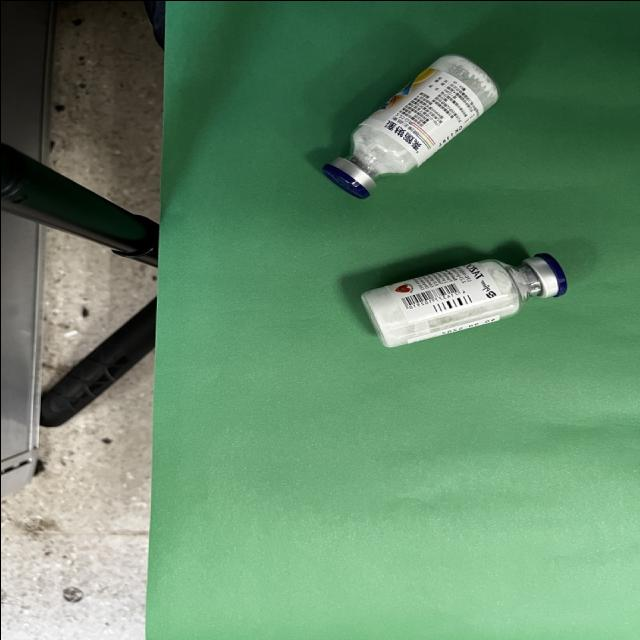Vials: (321, 52, 499, 198), (359, 250, 567, 346)
